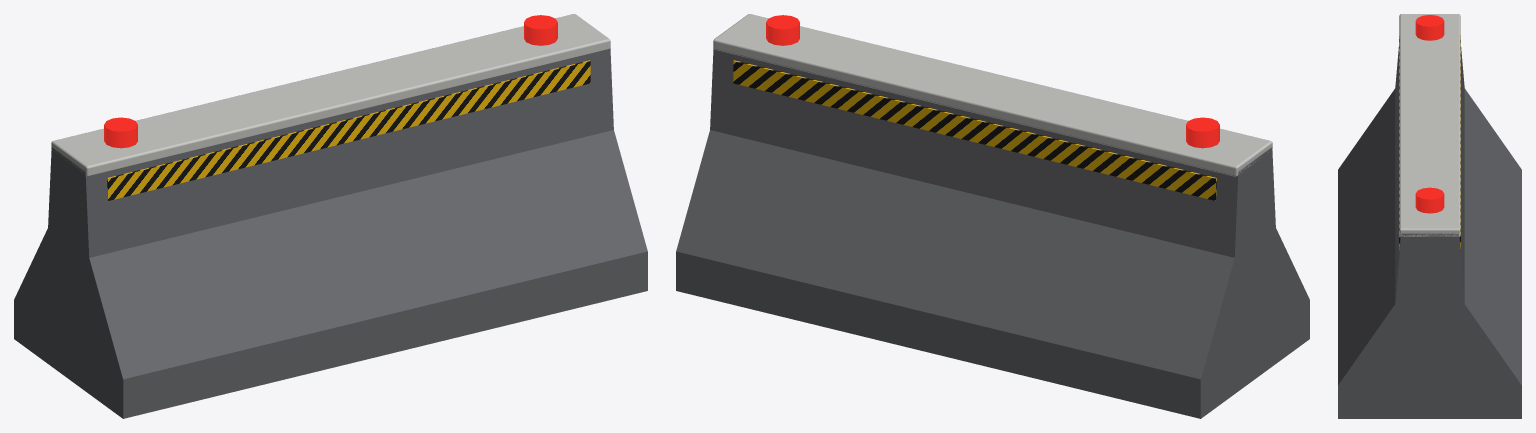
Rendered from obstacle_barrier.glb.
3 renders of one model, left to right at view 1: azimuth 30°, elevation 25°; view 2: azimuth 150°, elevation 25°; view 3: azimuth 270°, elevation 25°, orthographic. The views are drawn at different scales.
Visible parts, largest first — view 1: Barrier; view 2: Barrier; view 3: Barrier.
Boxes of the visible parts, box(x1,y1,x2,y2) form: Barrier: box(14, 14, 647, 418); Barrier: box(676, 14, 1309, 418); Barrier: box(1338, 14, 1521, 418).
Bounding box in the file's own units: 2.5 × 1.1 × 0.9.
3 materials, 1 textured.
